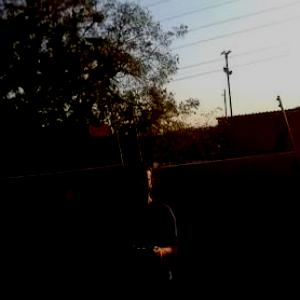follow: (106, 154, 186, 299)
